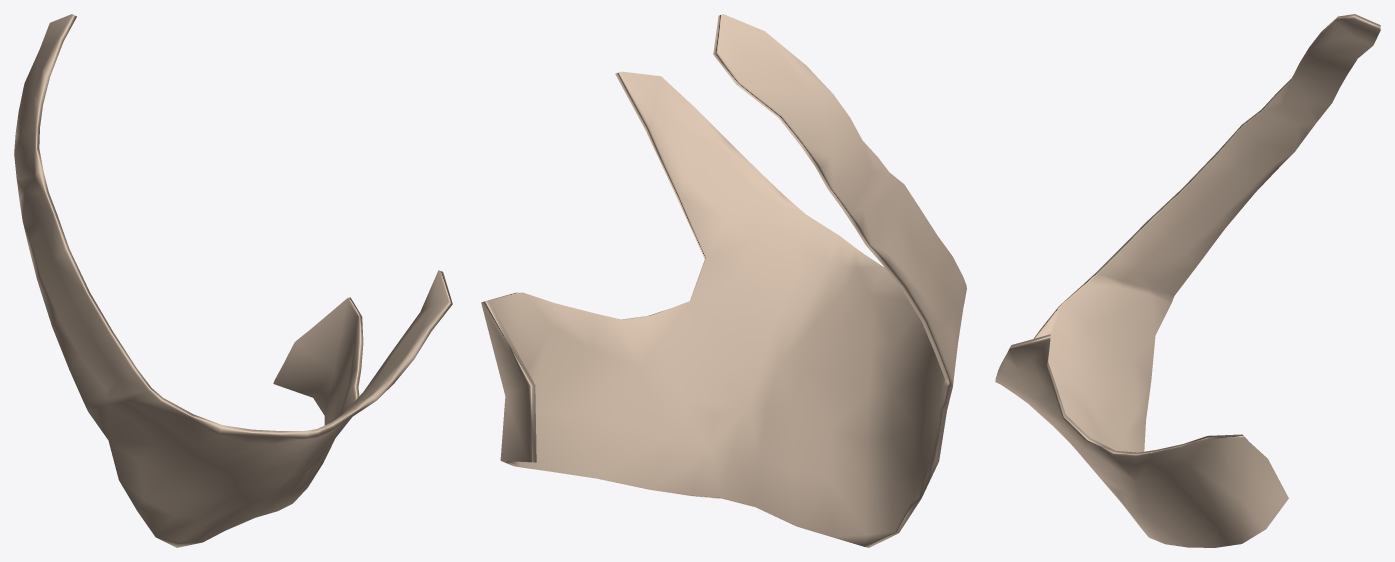
The picture shows the model from 3 angles, left to right: view 1: azimuth 30°, elevation 25°; view 2: azimuth 150°, elevation 25°; view 3: azimuth 270°, elevation 25°; orthographic projection. The views are drawn at different scales.
Parts seen in each view (by area): view 1: 右侧腓骨肌上支持带; view 2: 右侧腓骨肌上支持带; view 3: 右侧腓骨肌上支持带.
Part boxes in pixels (left/top/right/bottom): 右侧腓骨肌上支持带: left=14, top=14, right=452, bottom=547; 右侧腓骨肌上支持带: left=481, top=14, right=966, bottom=547; 右侧腓骨肌上支持带: left=995, top=14, right=1380, bottom=547.
Bounding box in the file's own units: 0.0845 × 0.1194 × 0.088.
